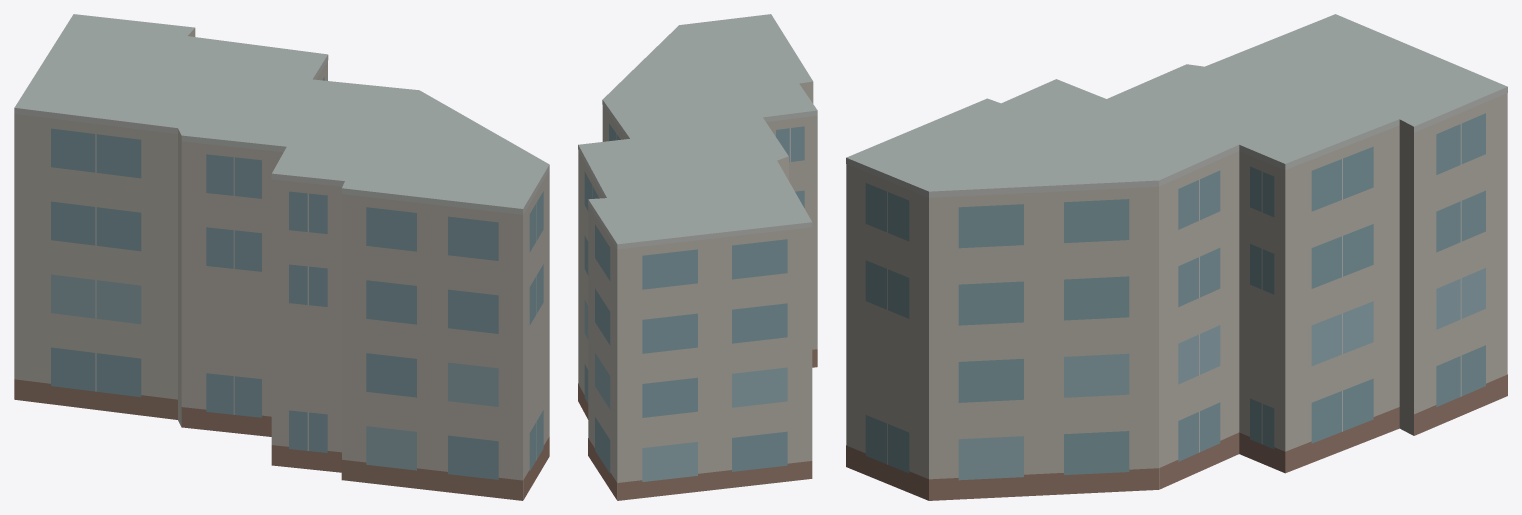
The model's file is survey-upis-32702504.glb.
3 renders of one model, left to right at view 1: azimuth 30°, elevation 25°; view 2: azimuth 150°, elevation 25°; view 3: azimuth 270°, elevation 25°, orthographic. The views are drawn at different scales.
Visible parts, largest first — view 1: survey-upis-32702504.tmp; view 2: survey-upis-32702504.tmp; view 3: survey-upis-32702504.tmp.
Part boxes in pixels (x1,y1,x2,y2): survey-upis-32702504.tmp: (14, 14, 549, 500); survey-upis-32702504.tmp: (578, 14, 817, 500); survey-upis-32702504.tmp: (846, 14, 1507, 500).
Bounding box in the file's own units: 15.03 × 12.2 × 23.66.
